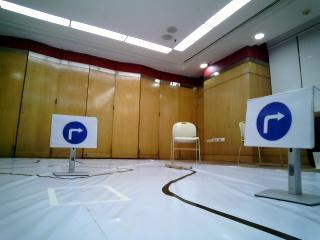right: (249, 99, 304, 145), (55, 115, 97, 148)
